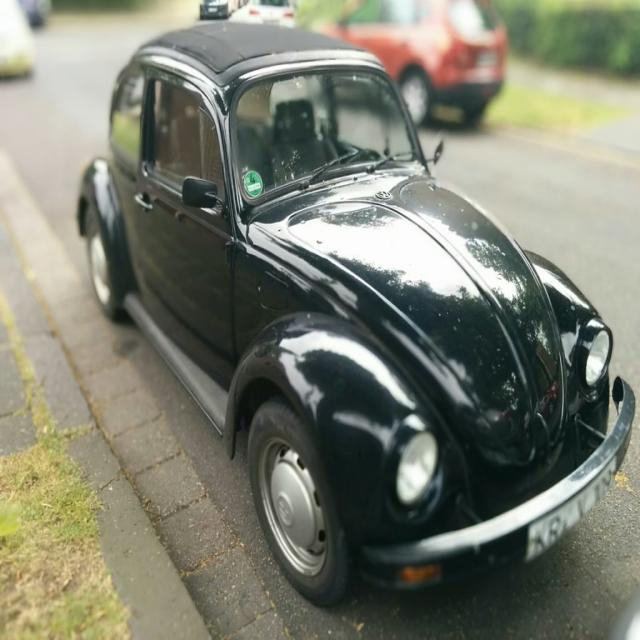car: (76, 18, 638, 609)
